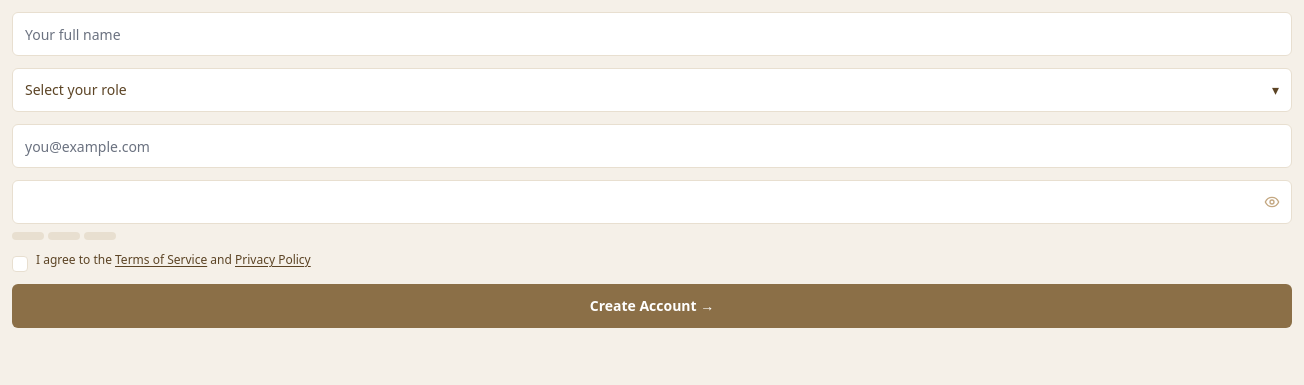
Test: SignUpForm › submit without role shows validation error
This screenshot has width=1304, height=385.
Type "Test User" into the field labelled "name" at (652, 34), box [12,12,1292,56]
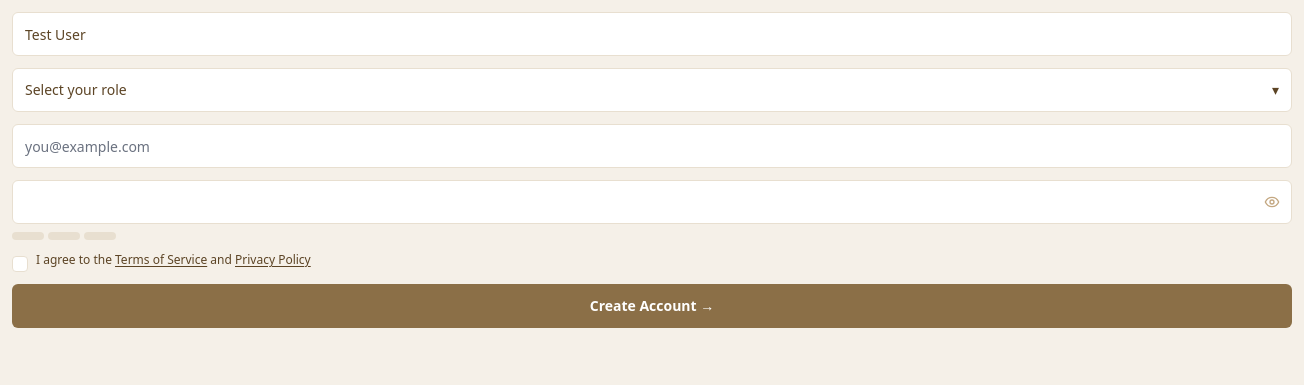
Type "test@example.com" into the field named "Email" at (652, 146), box [12,124,1292,168]
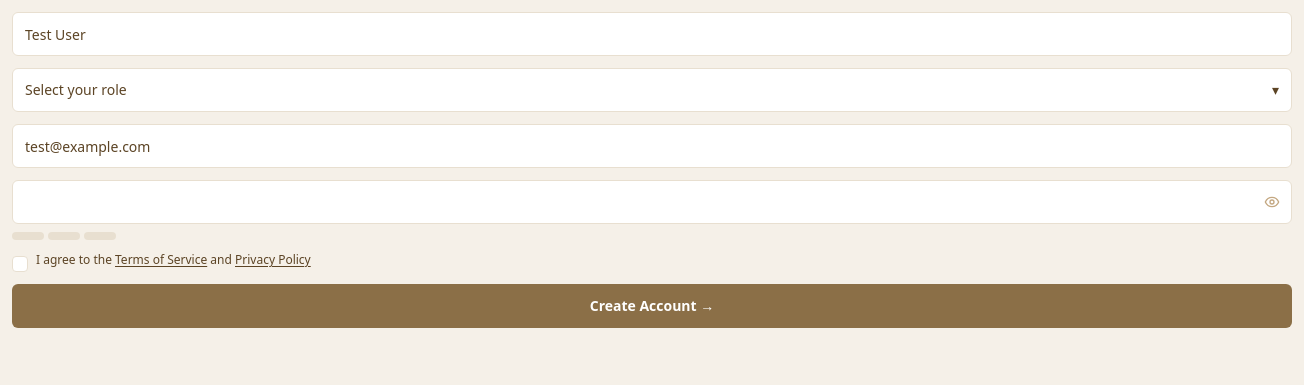
Type "TestPass1" into the password field named "Password" at (652, 202), box [12,180,1292,224]
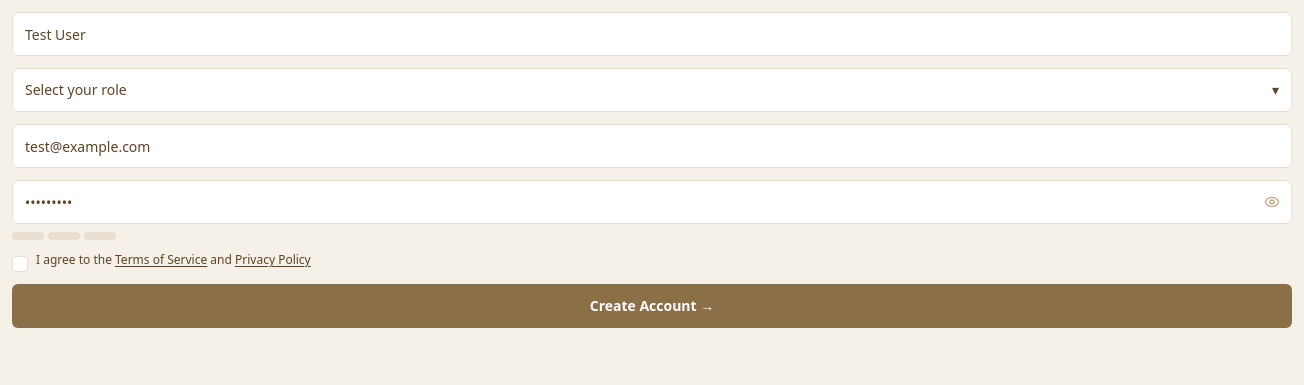
Click the checkbox at (20, 264), box [12,256,28,272]
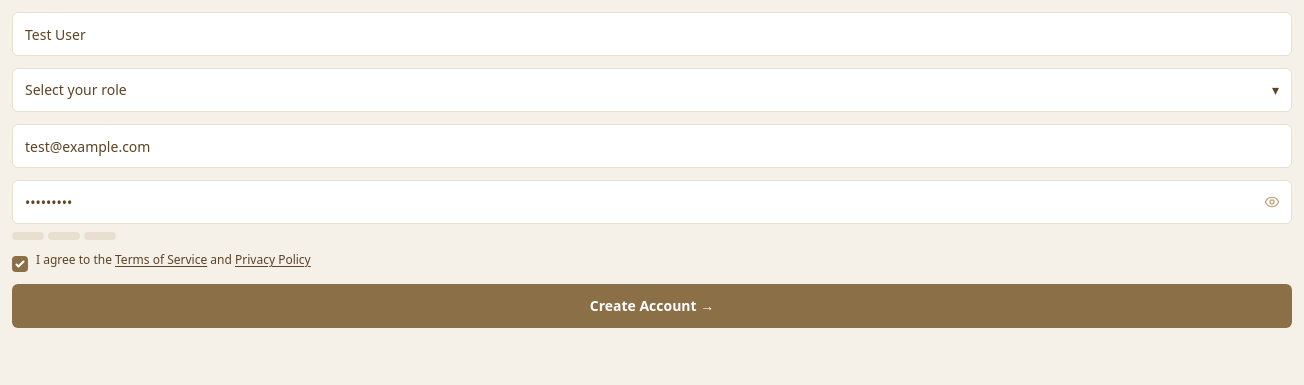
Click the button "Create Account →" at (652, 306), box [12,284,1292,328]
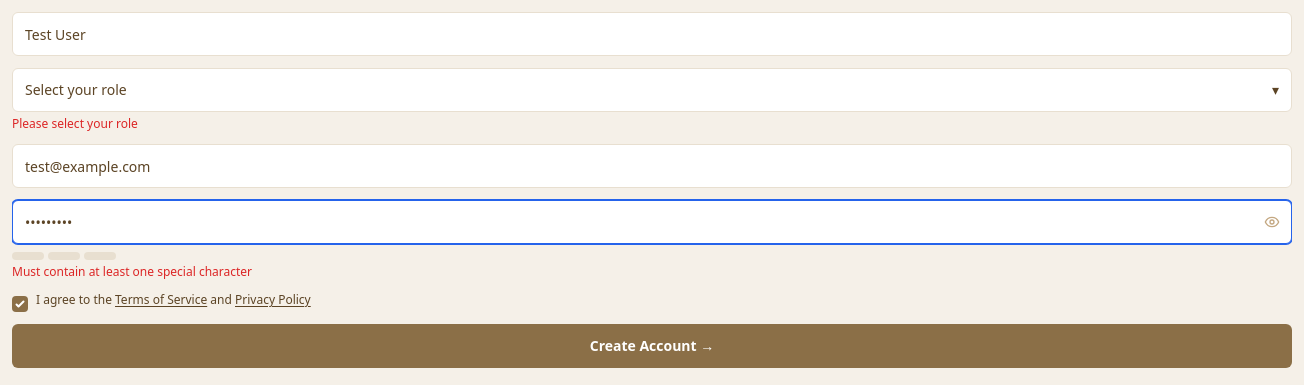
Expected: the text "Please select your role" is shown, [12,115,138,132]
